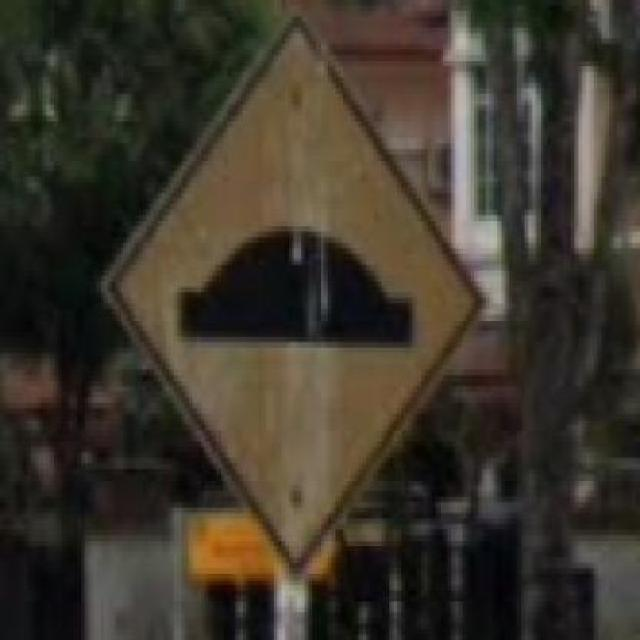Polisi Tidur: (101, 5, 492, 590)
